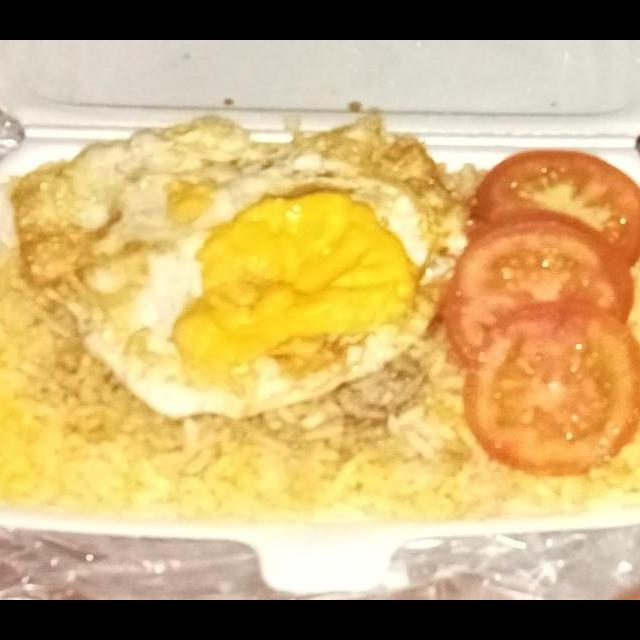com: (132, 353, 486, 529), (0, 229, 146, 517), (603, 227, 640, 510)
trung: (0, 105, 476, 426)
